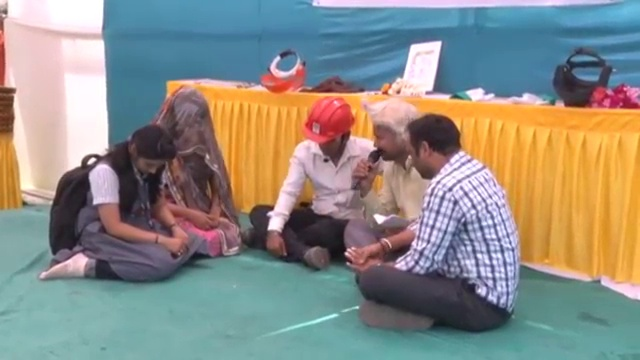helmet: (296, 96, 356, 146)
helmet_off: (403, 113, 465, 183), (364, 100, 416, 175), (159, 87, 213, 155), (121, 122, 175, 184)
helmet_on: (296, 98, 355, 163)
person: (333, 102, 521, 326), (40, 117, 198, 281), (248, 98, 376, 268), (149, 76, 242, 259), (342, 100, 434, 270)
